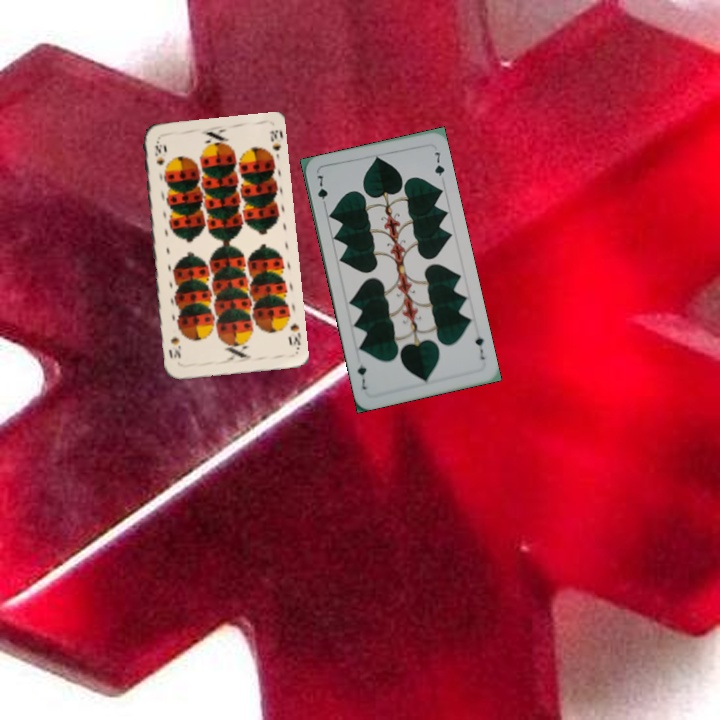G7: (313, 171, 330, 210), (471, 327, 488, 362)
S10: (284, 319, 303, 352), (151, 137, 165, 167)
